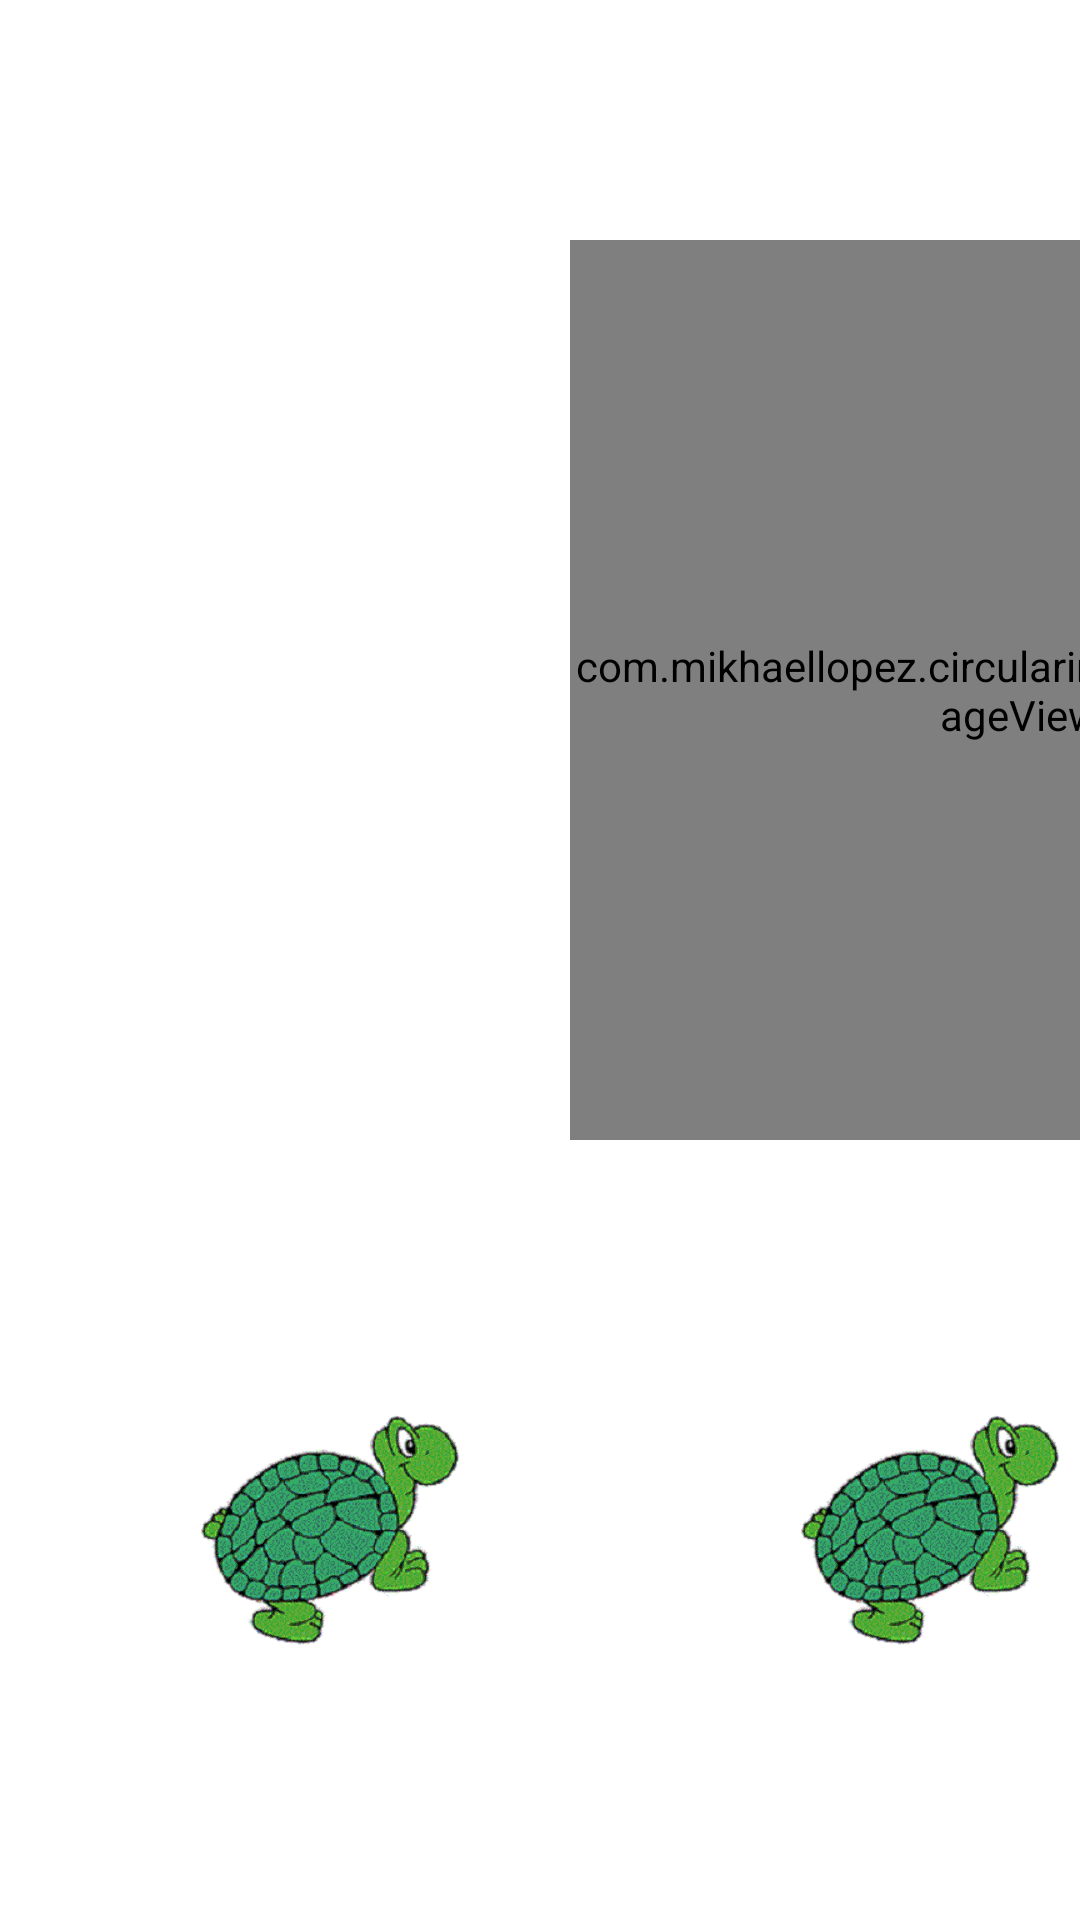

Screen size 1080px×1920px. Icon name, then its center in pixels as (x=x, y=y):
tortuga: (x=330, y=1530), (x=930, y=1530)
